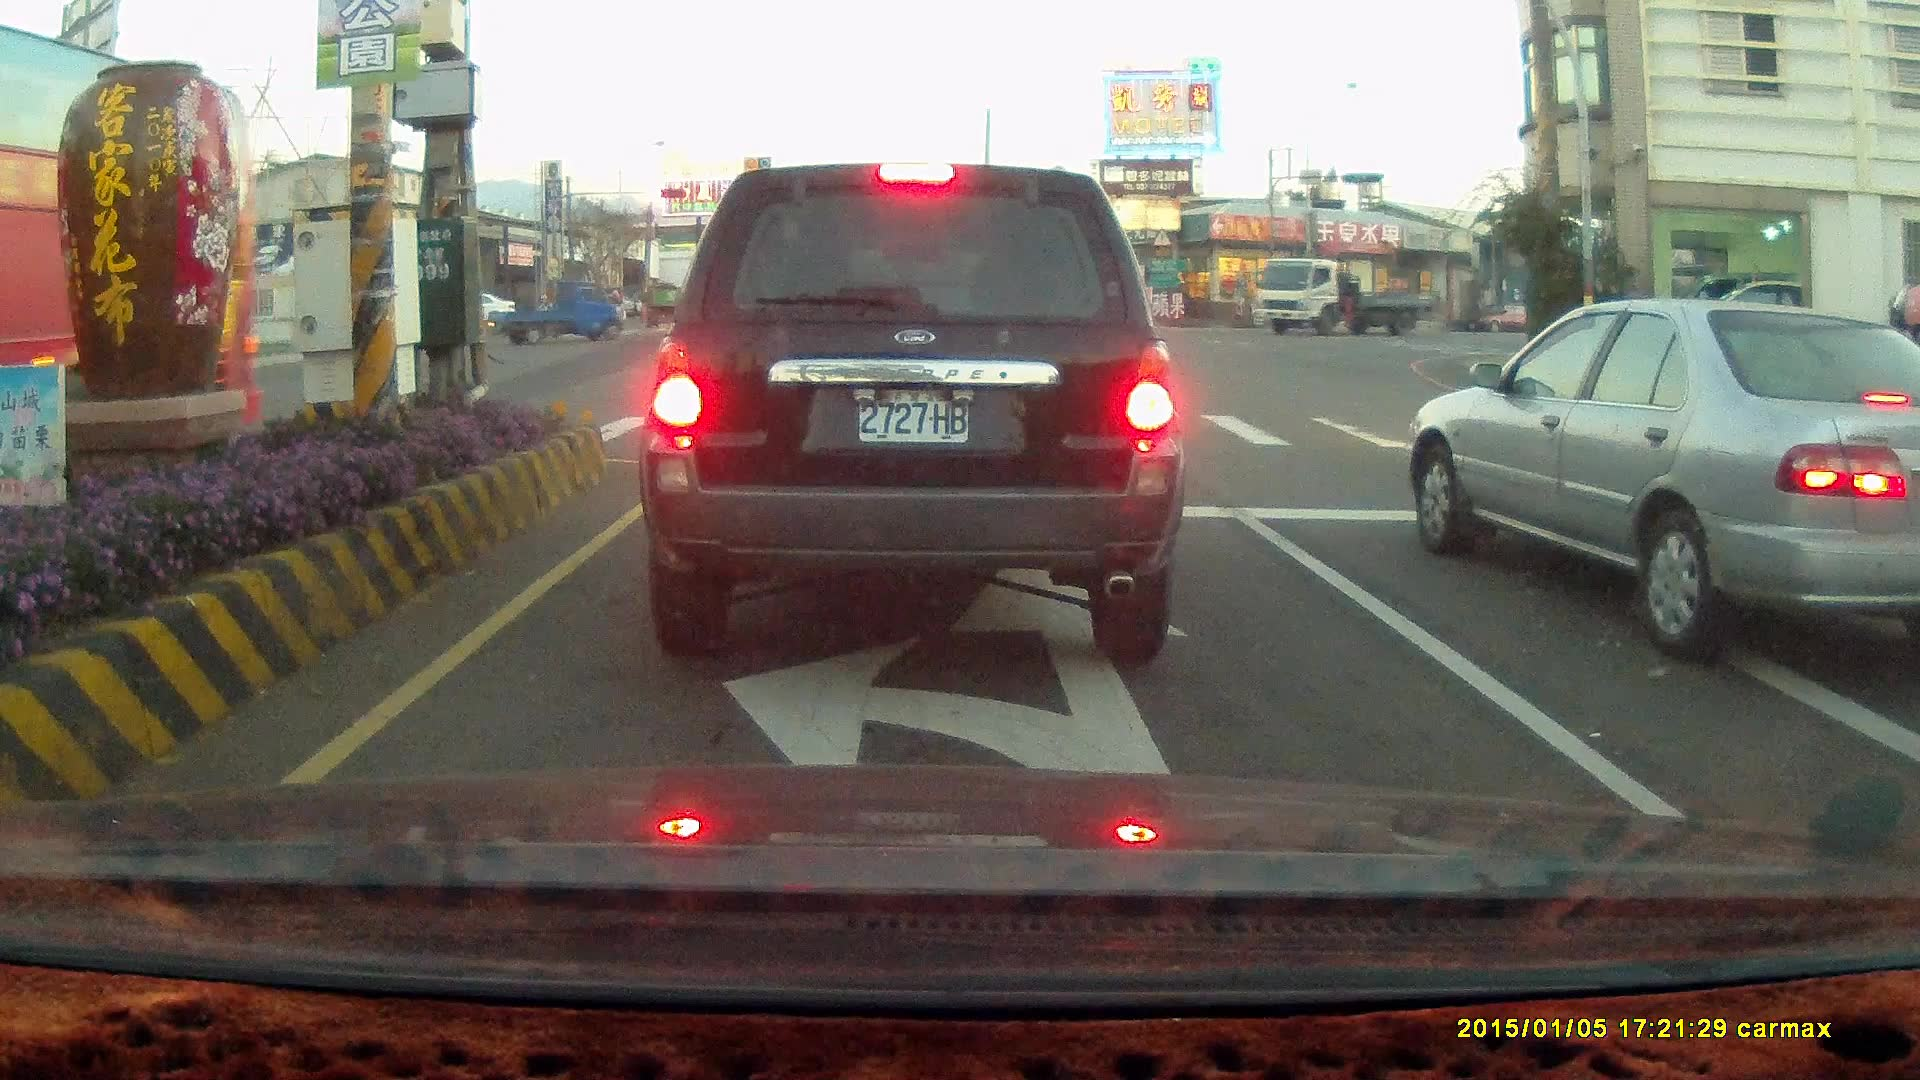vehicle: (636, 158, 1185, 667), (1400, 295, 1920, 661), (1418, 301, 1920, 665), (699, 255, 918, 344), (1255, 256, 1443, 342), (1648, 276, 1793, 361), (948, 278, 1062, 356), (489, 278, 618, 345), (1896, 493, 1920, 836)
